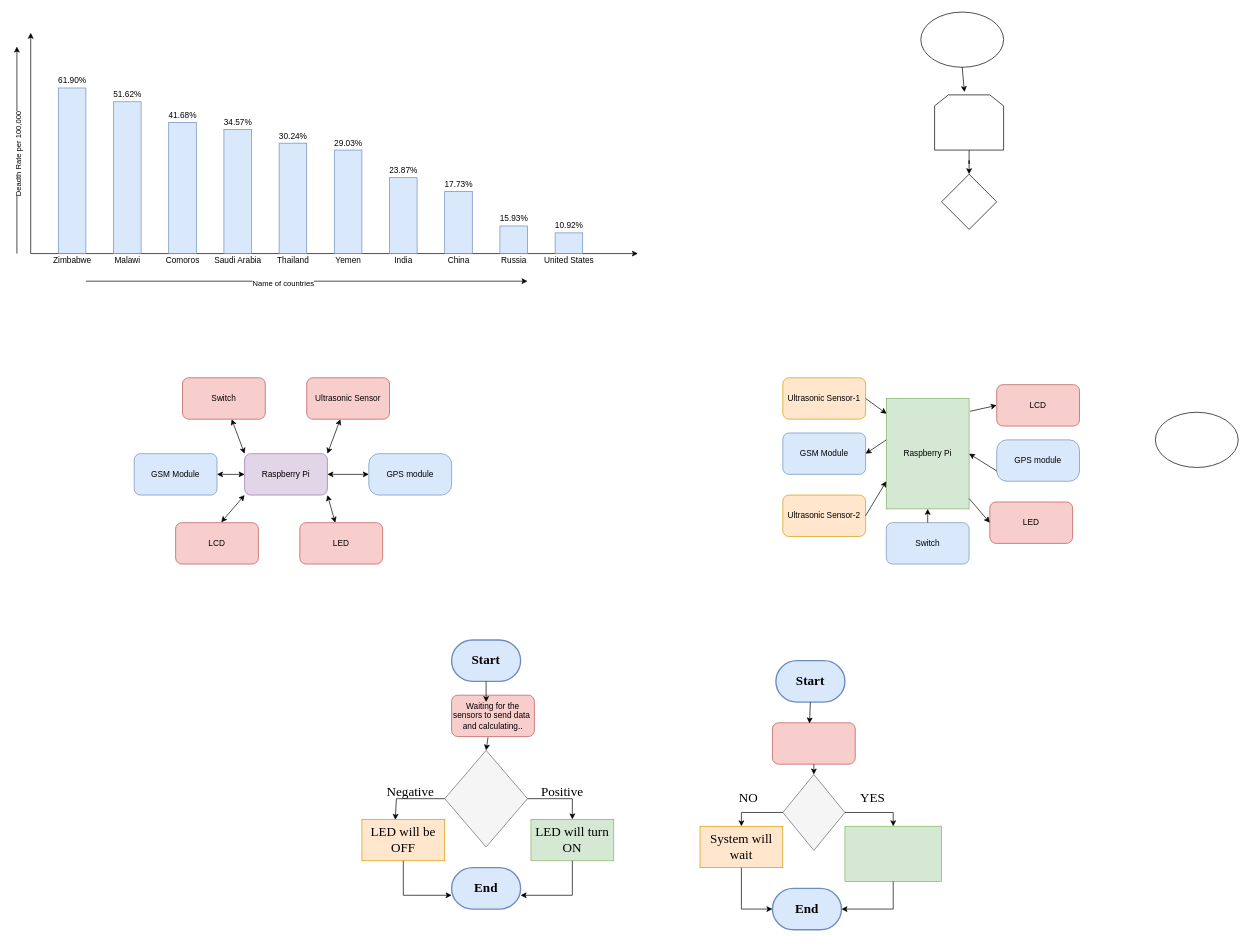
This 1250x943 diagram has some shape labels left out. The shapes that lost their labels are listed below. From the top down, each one's box as (x1, y1, x2, y2) in pixels, then its label:
(772, 722, 855, 764): Press the button?
(444, 750, 528, 847): Positive or negative?
(782, 774, 845, 850): Button pressed?
(844, 826, 942, 881): LED will turn red and message will display
